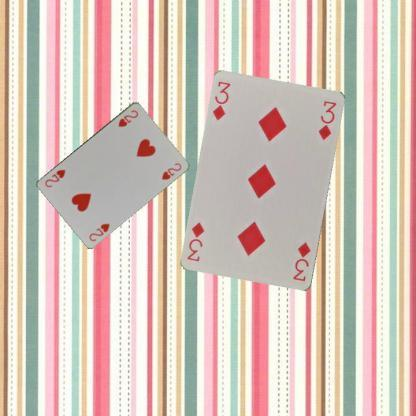2h: (86, 220, 111, 242), (116, 106, 139, 128)
3d: (210, 79, 232, 122), (290, 240, 312, 282)
